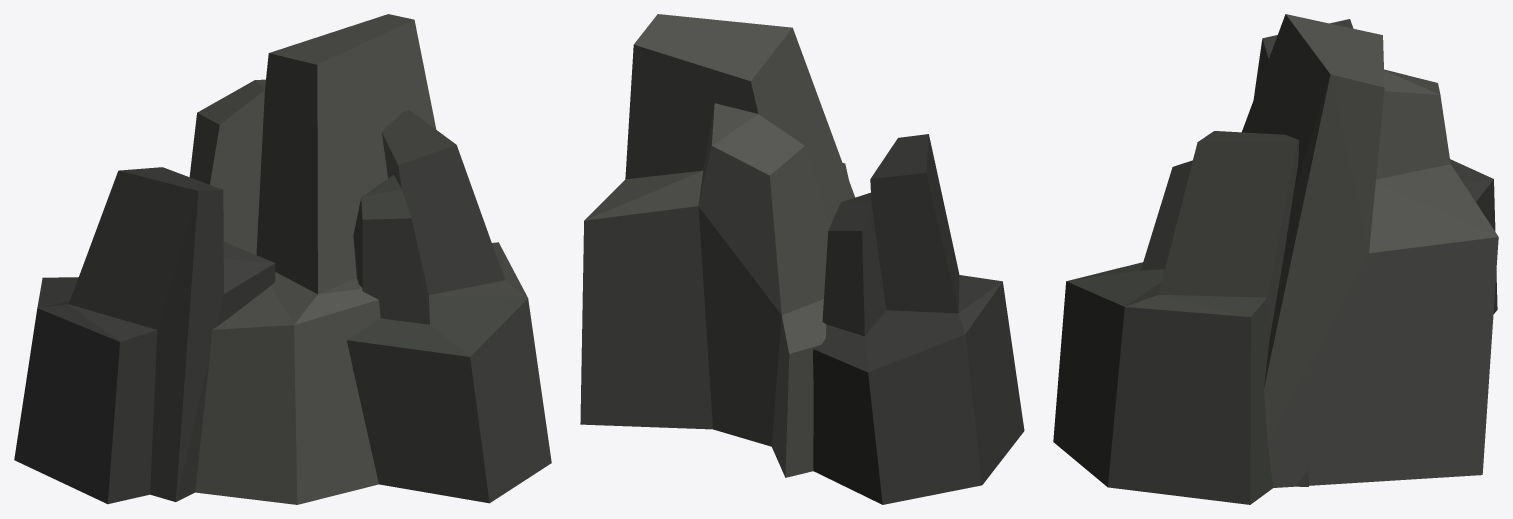
Rendered from AO_Rock06.fbx.
3 renders of one model, left to right at view 1: azimuth 30°, elevation 25°; view 2: azimuth 150°, elevation 25°; view 3: azimuth 270°, elevation 25°, orthographic. The views are drawn at different scales.
Parts seen in each view (by area): view 1: AO_Rock06; view 2: AO_Rock06; view 3: AO_Rock06.
Part boxes in pixels (bbox=[...]): AO_Rock06: bbox=[14, 14, 551, 504]; AO_Rock06: bbox=[580, 14, 1024, 504]; AO_Rock06: bbox=[1053, 14, 1498, 504].
Size of the model in its own units: 339 by 280 by 285.
1 material, 1 textured.
